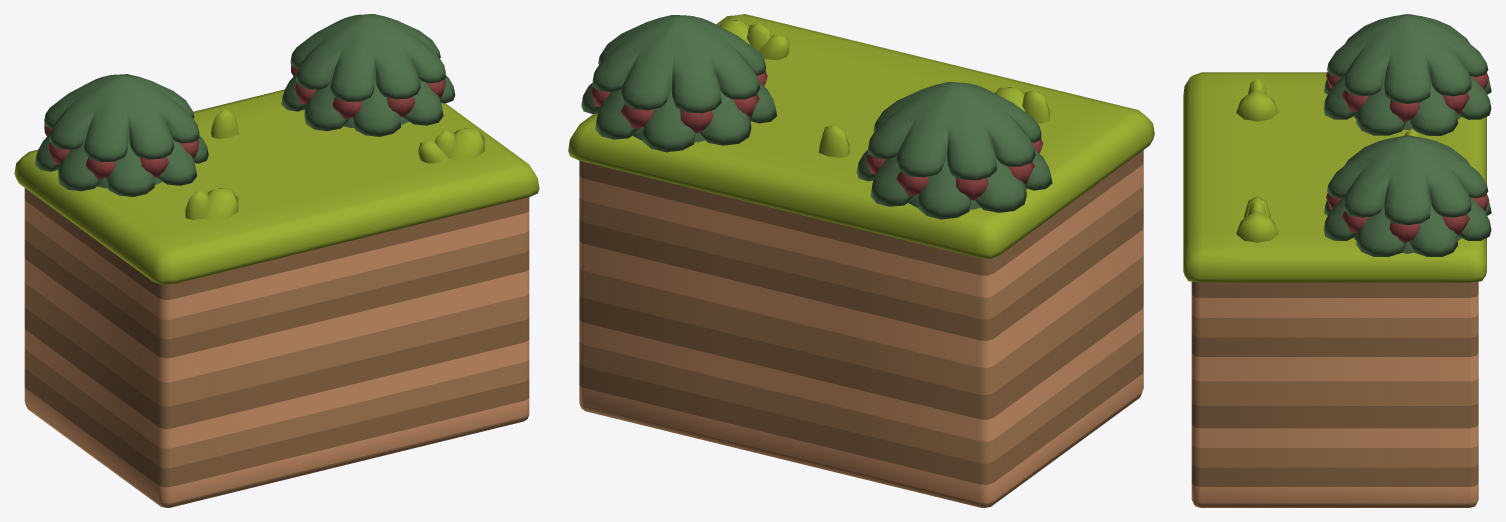
The model's file is Bush_Fruit2.gltf.
3 renders of one model, left to right at view 1: azimuth 30°, elevation 25°; view 2: azimuth 150°, elevation 25°; view 3: azimuth 270°, elevation 25°, orthographic. The views are drawn at different scales.
Visible parts, largest first — view 1: Bush_Fruit2; view 2: Bush_Fruit2; view 3: Bush_Fruit2.
Part boxes in pixels (<box>): Bush_Fruit2: <box>14,14,539,507</box>; Bush_Fruit2: <box>568,14,1154,507</box>; Bush_Fruit2: <box>1183,14,1491,507</box>.
Size of the model in its own units: 6.35 by 5.31 by 4.3.
